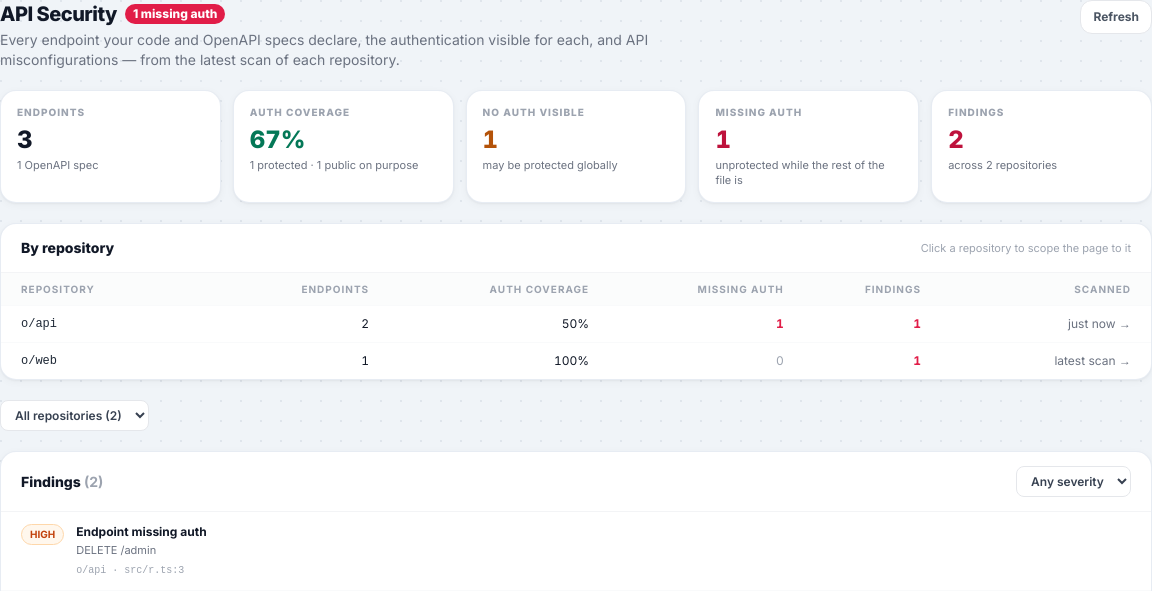
Test: API security page › summary, per-repo table, findings with links; a repository scopes everything
This screenshot has width=1152, height=591.
Click the text "Endpoint missing auth" at point(141, 532), box x1=76 y1=524 x2=207 y2=539
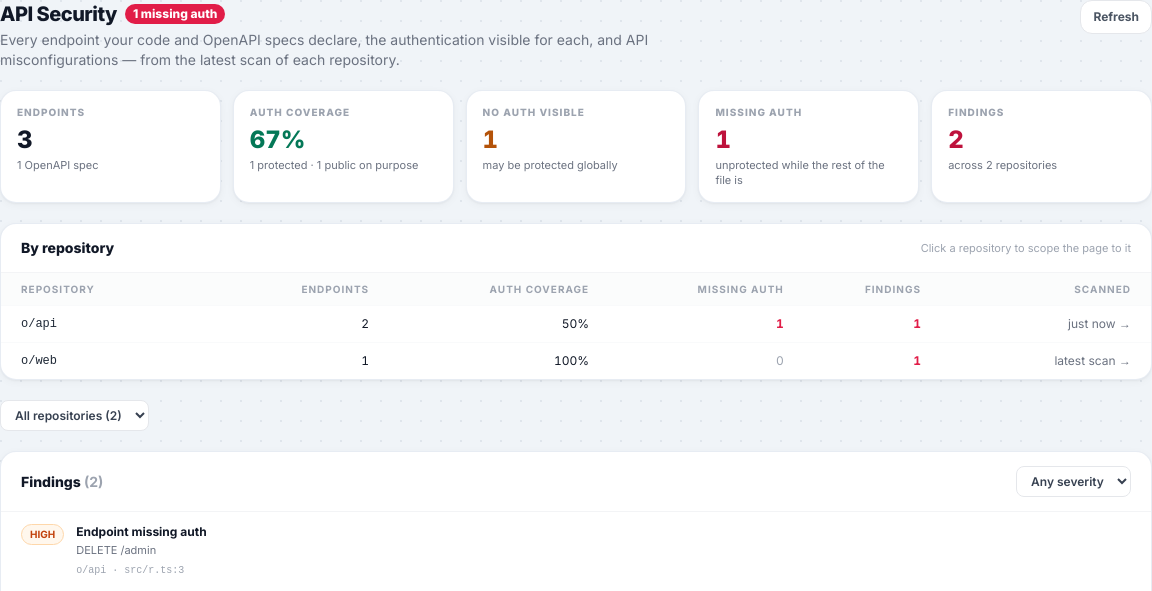
Click the text "o/web" at point(39, 361), box x1=1 y1=343 x2=218 y2=379
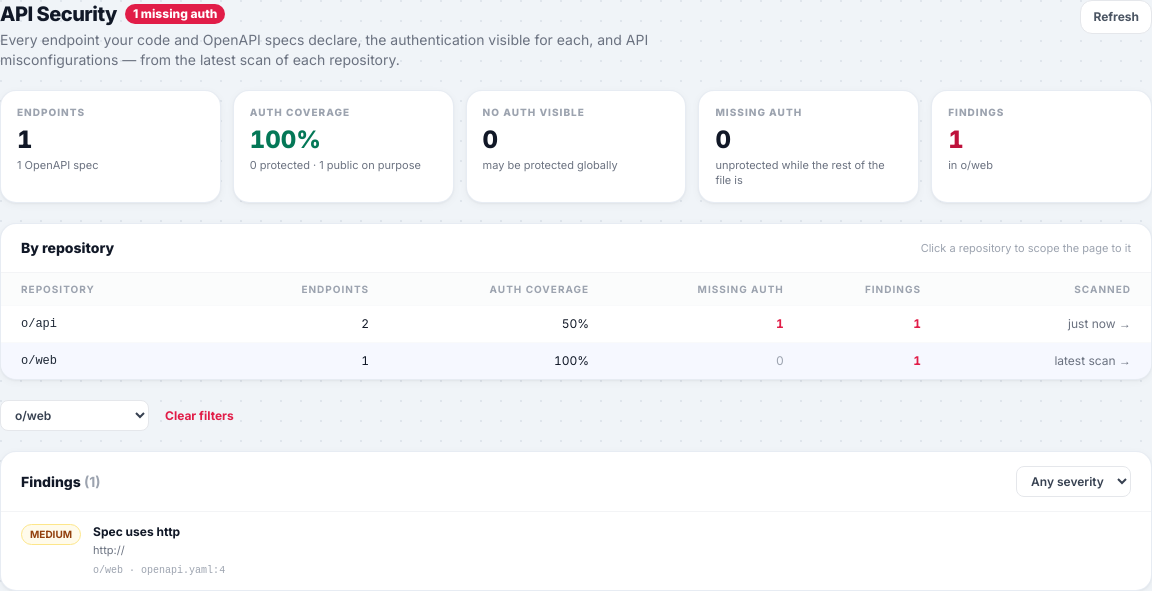
Now the button "Endpoint missing auth" is gone
